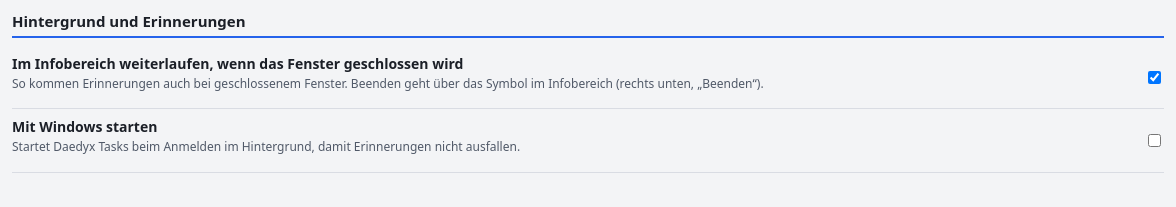
BackgroundSettings › meldet einen Fehler beim Autostart als Text und lässt den Zustand unverändert
Click the checkbox labelled "Mit Windows starten": [1154, 141] box [1148,134,1161,147]
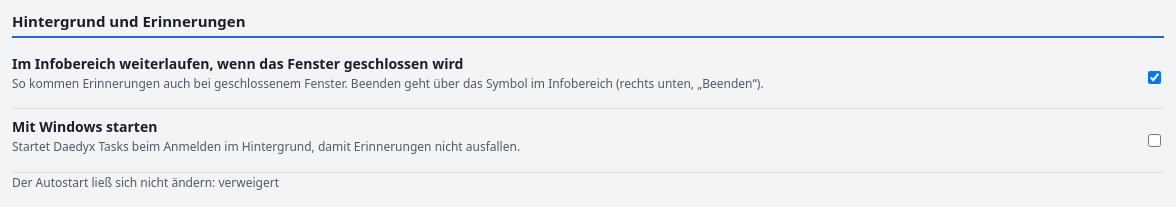
Check: the text "Der Autostart ließ sich nicht ändern: verweigert" is shown, box [12,174,279,191]
